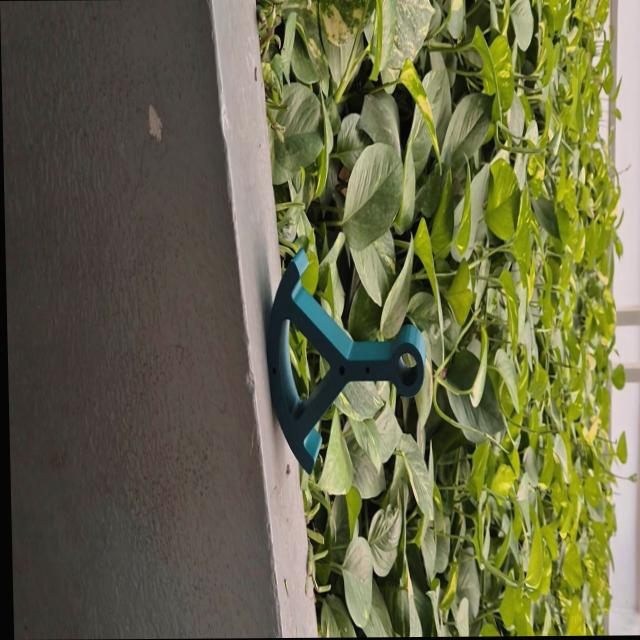haptic: (264, 244, 430, 476)
